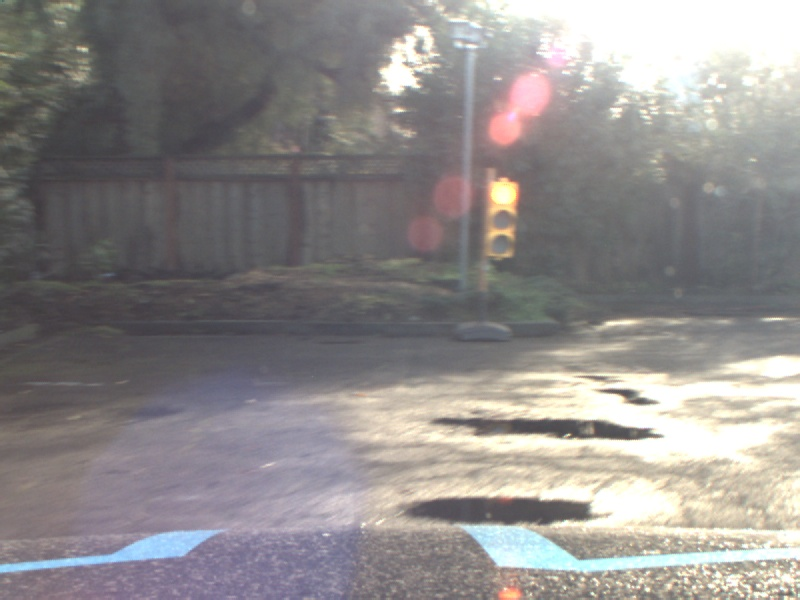Red: (488, 181, 518, 256)
